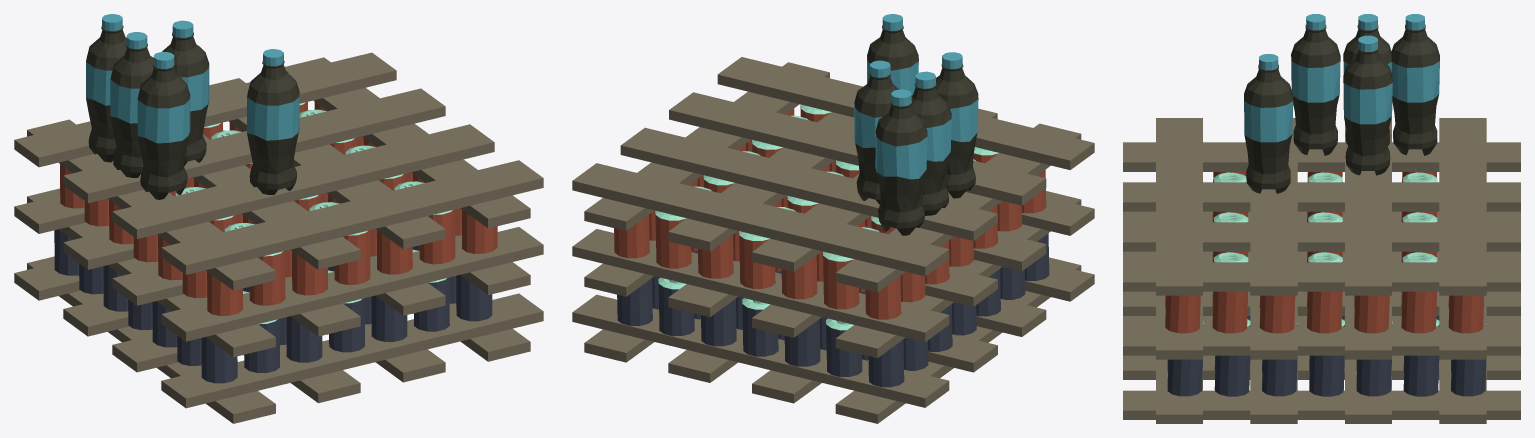
The model's file is paletterfOfCola.fbx.
The picture shows the model from 3 angles, left to right: view 1: azimuth 30°, elevation 25°; view 2: azimuth 150°, elevation 25°; view 3: azimuth 270°, elevation 25°; orthographic projection. The views are drawn at different scales.
Visible parts, largest first — view 1: Bottle.001; view 2: Bottle.001; view 3: Bottle.001.
Part boxes in pixels (left/top/right/bottom): Bottle.001: left=14, top=14, right=543, bottom=423; Bottle.001: left=572, top=14, right=1094, bottom=423; Bottle.001: left=1123, top=14, right=1520, bottom=423.
Bounding box in the file's own units: 1685 × 1292 × 1685.
